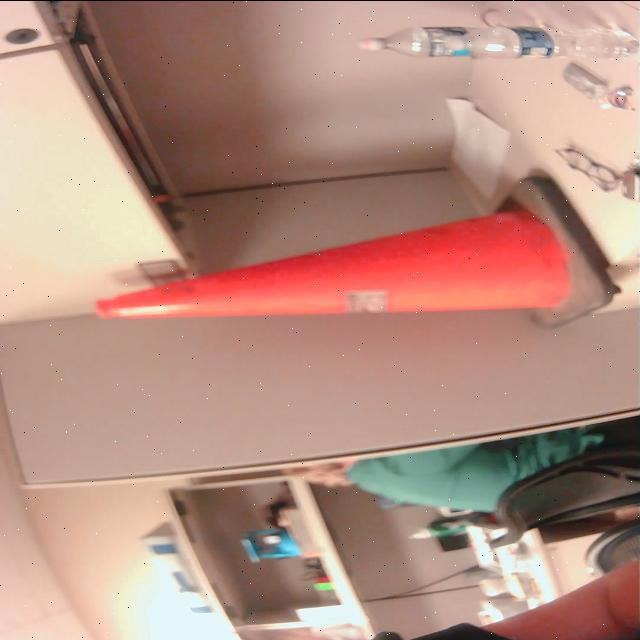traffic cone: (88, 168, 630, 335)
